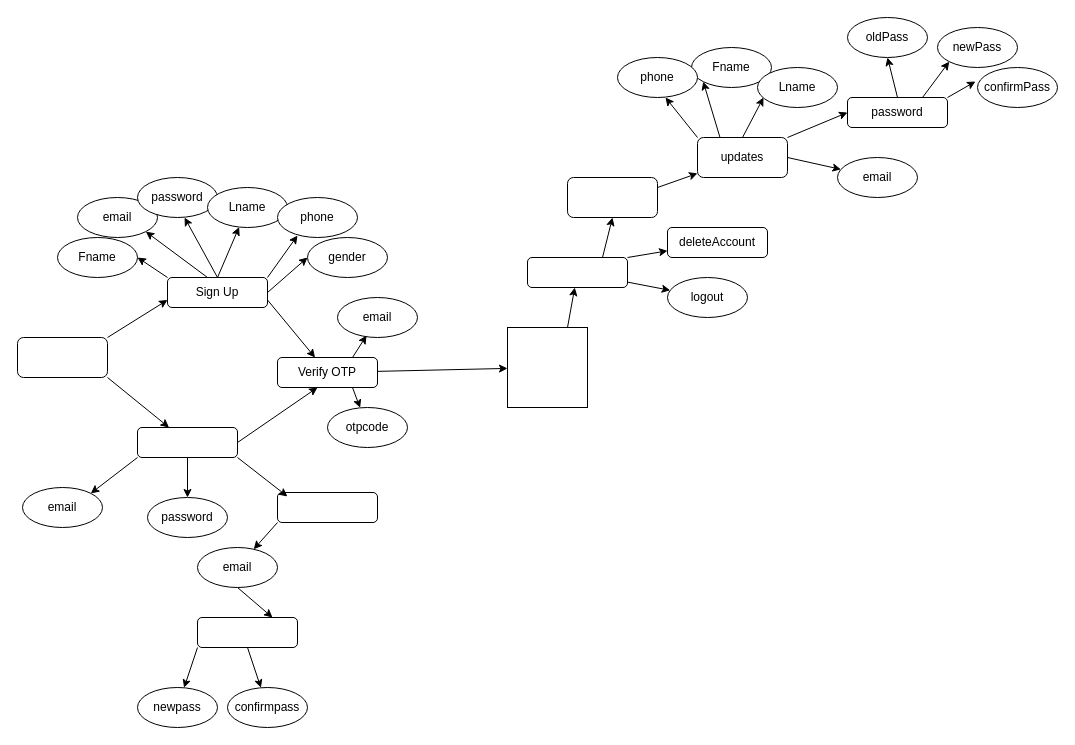
The diagram is 1075 pixels wide and 745 high, and some of its shapes have lost their labels. The shapes that lost their labels are listed below. From the top down, each one's box as (x1, y1, x2, y2) in pixels, then its label:
(566, 176, 658, 218): setting
(526, 256, 628, 288): profile
(16, 336, 108, 378): App
(506, 326, 588, 408): Dashboard
(136, 426, 238, 458): Login
(276, 492, 378, 522): forget-password
(196, 616, 298, 648): reset-password
